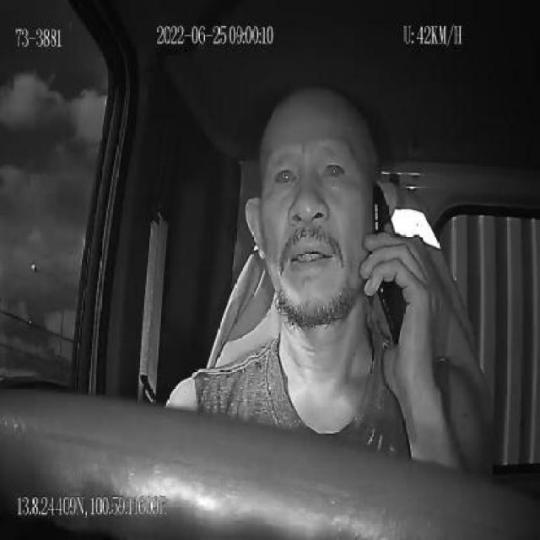phone: (371, 176, 409, 351)
